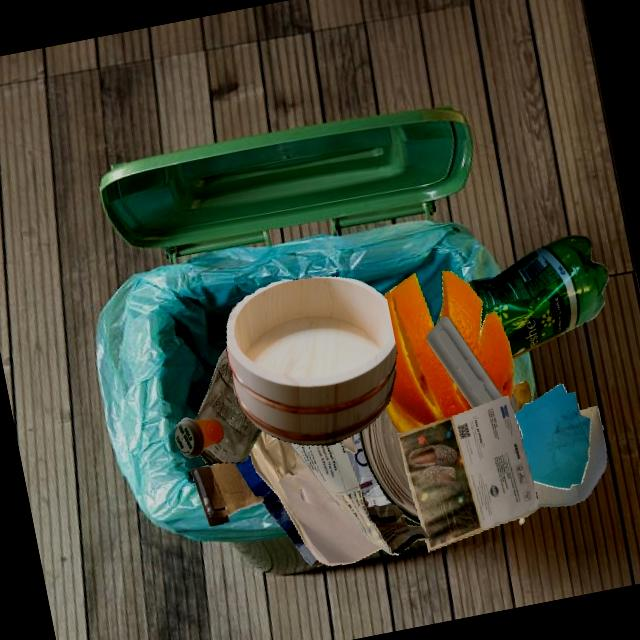biowaste: (384, 273, 473, 433), (440, 271, 513, 402), (512, 381, 531, 411)
cardboard: (190, 453, 326, 566), (533, 406, 607, 507), (346, 432, 393, 509)
combustible waste: (226, 277, 397, 445)
glass: (195, 348, 262, 463), (360, 407, 421, 525)
paper: (398, 396, 540, 552), (250, 431, 382, 565), (291, 440, 429, 555), (514, 384, 591, 489)
plastic: (467, 235, 609, 359), (426, 316, 502, 408), (174, 417, 224, 458)
